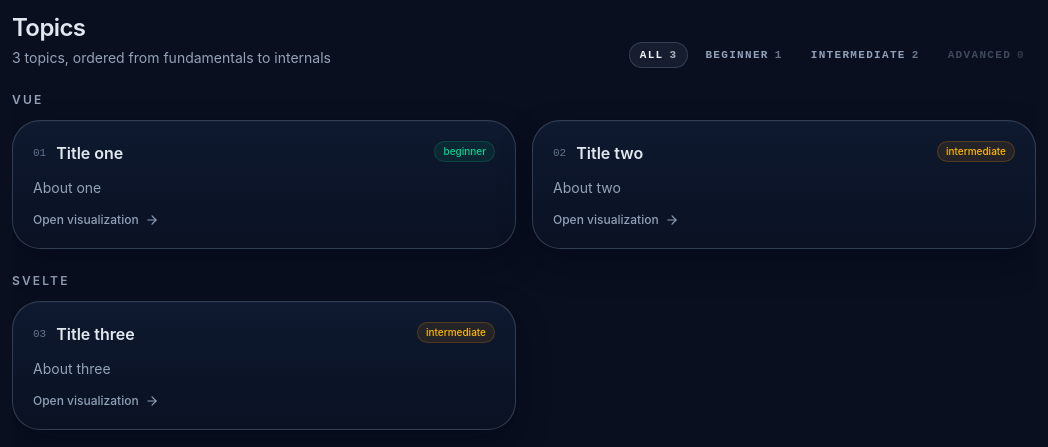
CategoryTopicGrid › clears the filter when the active chip is clicked again
What coordinates should you click on to do the following:
click the radio button labelled "Intermediate 2"
I would click on:
 (865, 55)
Its box is [800,42,931,68].
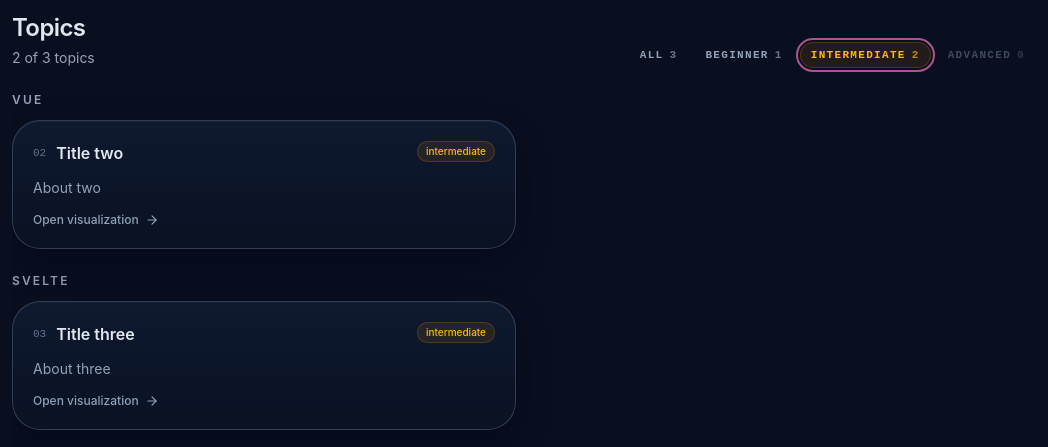
What coordinates should you click on to do the following:
click the radio button labelled "Intermediate 2"
I would click on:
 (865, 55)
Its box is [800,42,931,68].
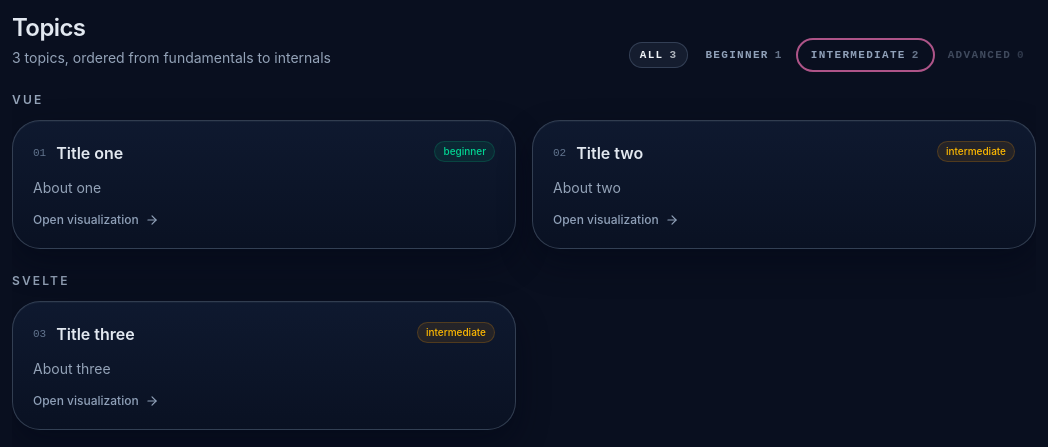
Check: the radio button labelled "All 3" is checked, box [629,42,688,68]
